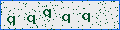q: (7, 16, 15, 26), (82, 13, 90, 22), (62, 14, 70, 23), (43, 9, 51, 18), (27, 15, 35, 24)
